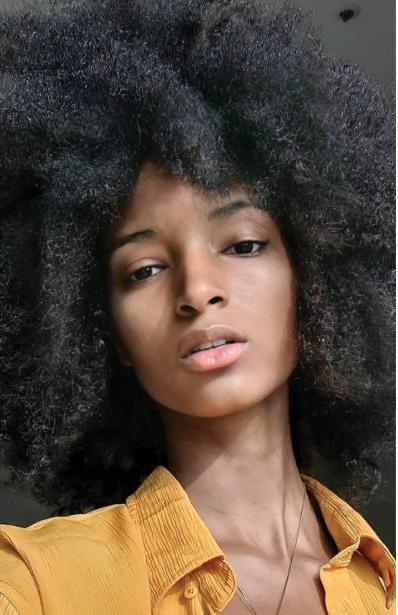Sober: (99, 163, 307, 414)
